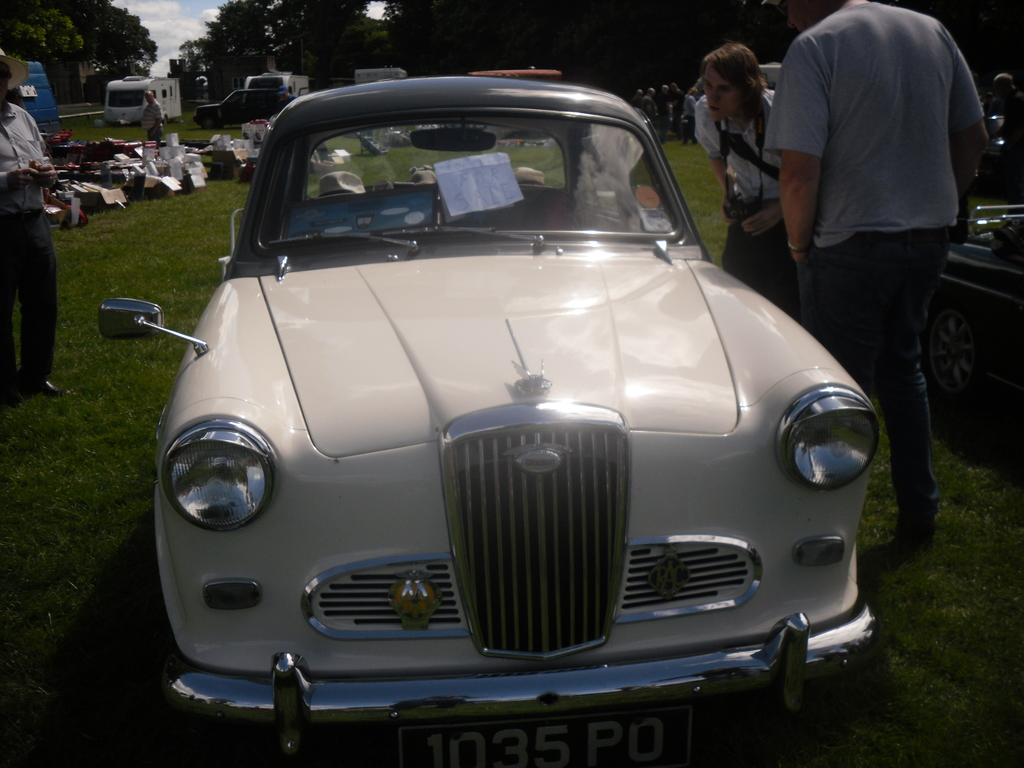Car: (97, 71, 890, 759), (917, 209, 1023, 411), (192, 87, 296, 119)
